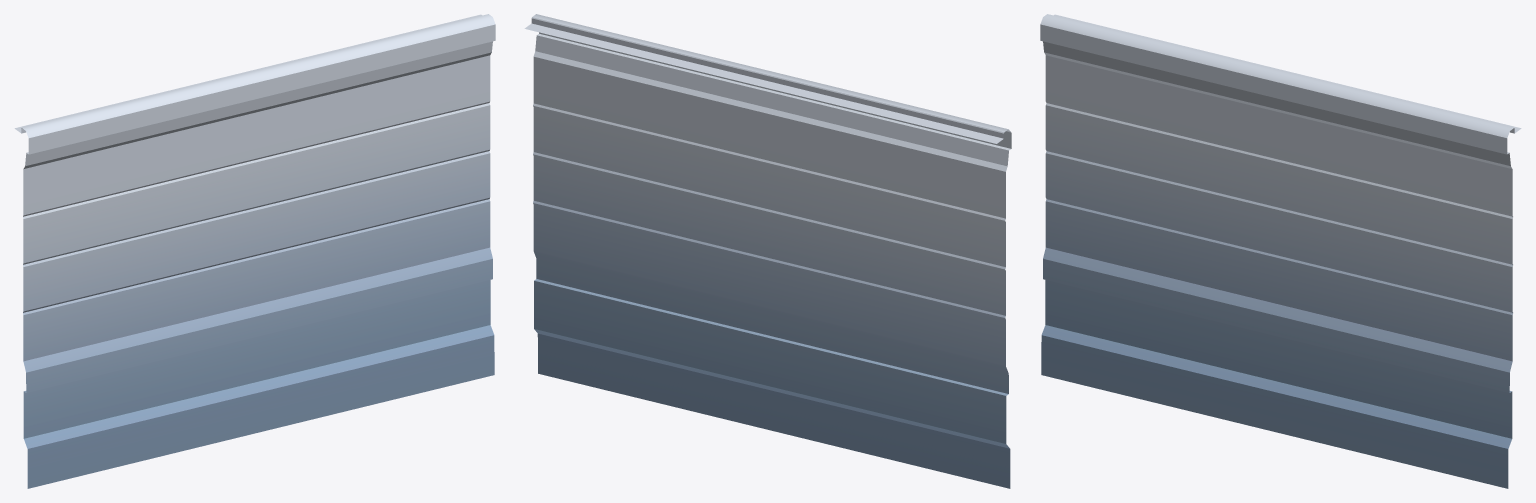
The model's file is Wall_02.fbx.
3 renders of one model, left to right at view 1: azimuth 30°, elevation 25°; view 2: azimuth 150°, elevation 25°; view 3: azimuth 330°, elevation 25°, orthographic.
Parts seen in each view (by area): view 1: Wall_02.001; view 2: Wall_02.001; view 3: Wall_02.001.
Boxes of the visible parts, x1=… form: Wall_02.001: x1=14, y1=14, x2=495, y2=488; Wall_02.001: x1=524, y1=14, x2=1011, y2=488; Wall_02.001: x1=1040, y1=14, x2=1521, y2=488.
Size of the model in its own units: 400 by 292 by 21.71.
